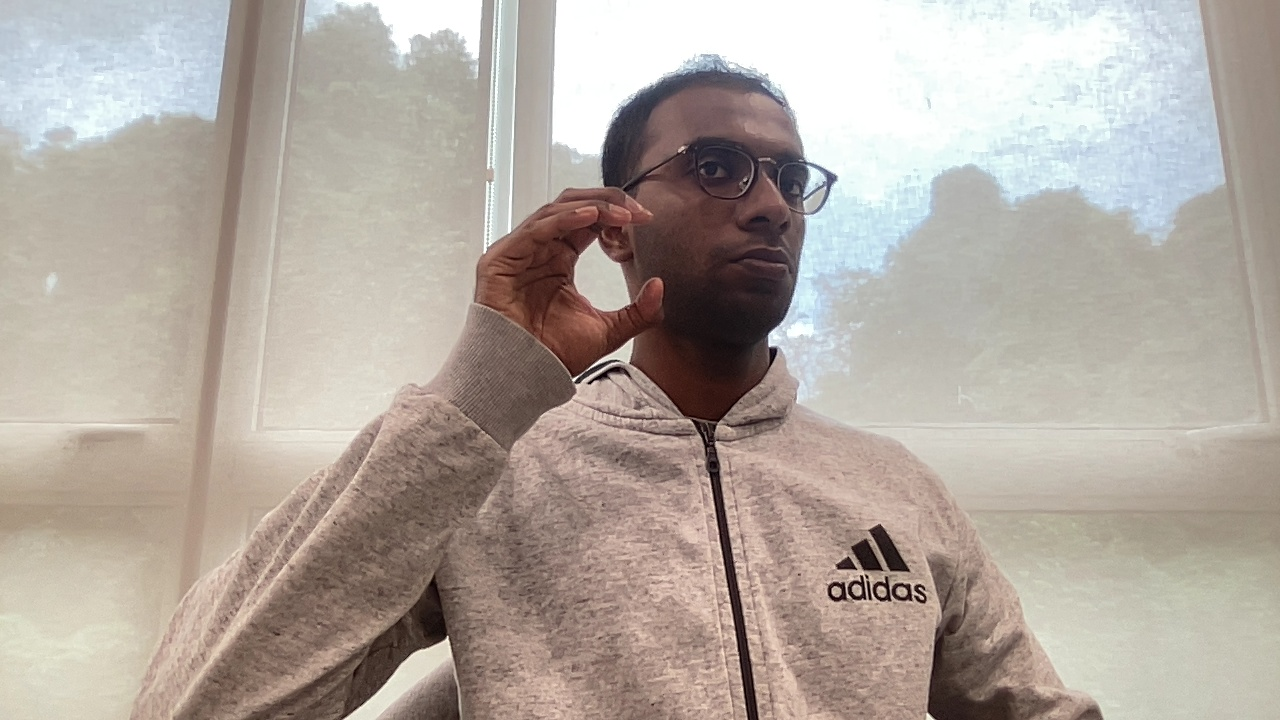drink: (468, 180, 670, 382)
